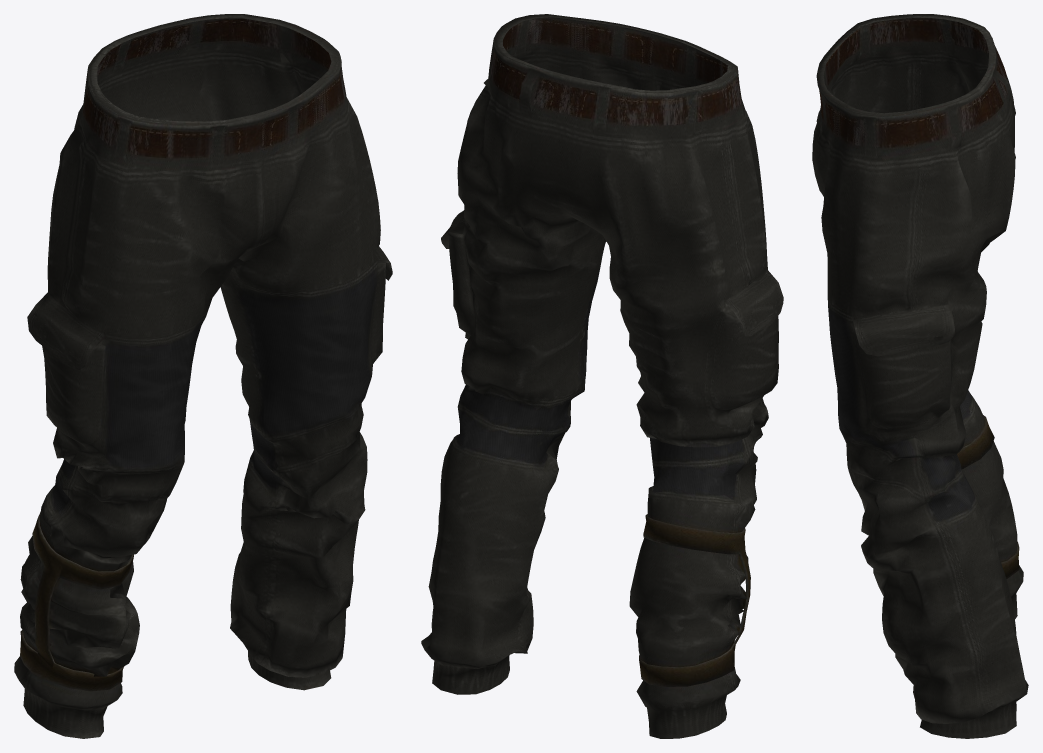
Rendered from pants.glb.
3 views of the same model, side by side, from view 1: azimuth 30°, elevation 25°; view 2: azimuth 150°, elevation 25°; view 3: azimuth 270°, elevation 25° (orthographic). The views are drawn at different scales.
Visible parts, largest first — view 1: pants1; view 2: pants1; view 3: pants1.
Boxes of the visible parts, x1=… form: pants1: x1=14, y1=14, x2=392, y2=738; pants1: x1=421, y1=14, x2=783, y2=738; pants1: x1=812, y1=14, x2=1028, y2=738.
Bounding box in the file's own units: 46.75 × 91.48 × 28.92.
Materials: 1 (1 with a texture image).
